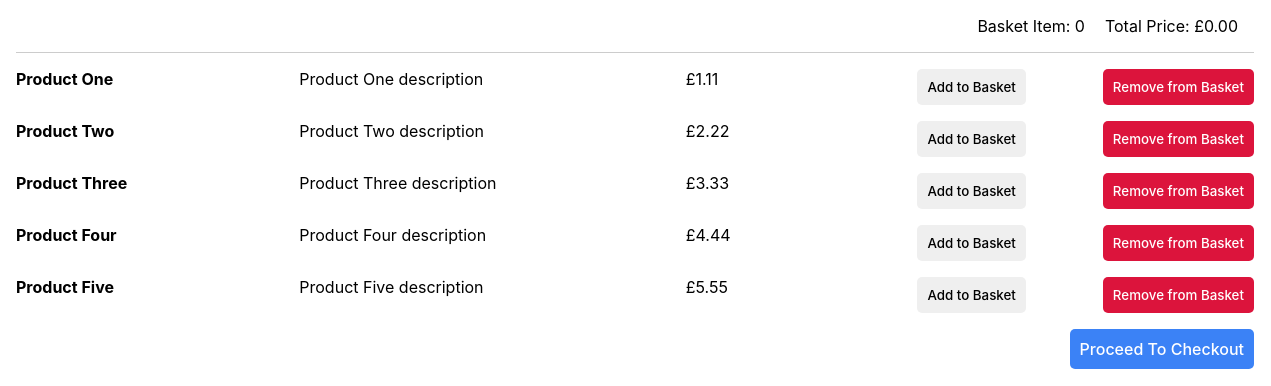
Test: Home Component › should add items to basket with correlated prices
Click the button with test id "addBtn-1": x=972, y=87 [918, 69, 1026, 105]
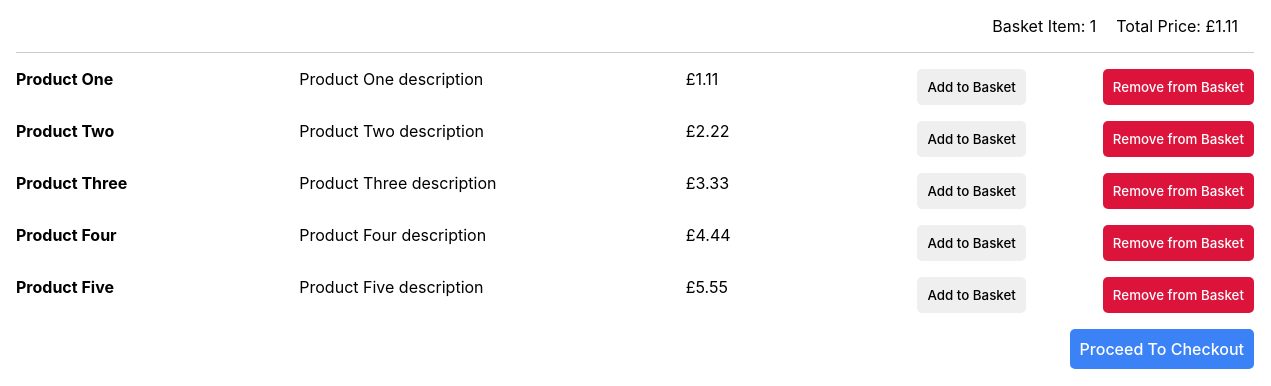
Click the button with test id "addBtn-2": x=972, y=139 [918, 121, 1026, 157]
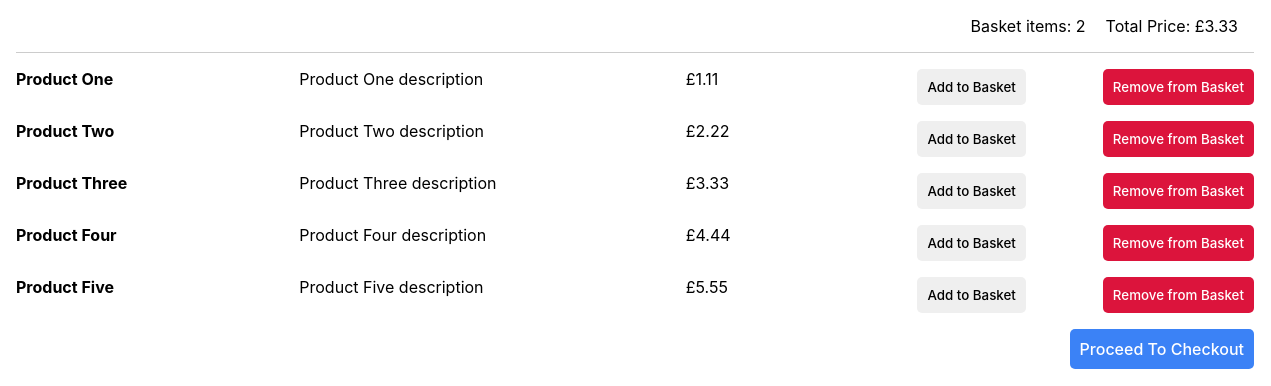
Click the button with test id "addBtn-2": x=972, y=139 [918, 121, 1026, 157]
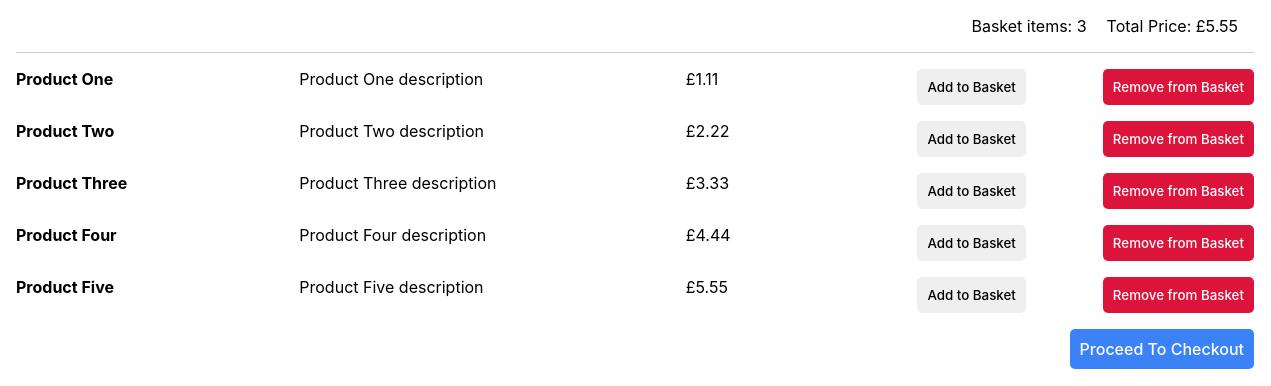
Click the button with test id "addBtn-3": x=972, y=191 [918, 173, 1026, 209]
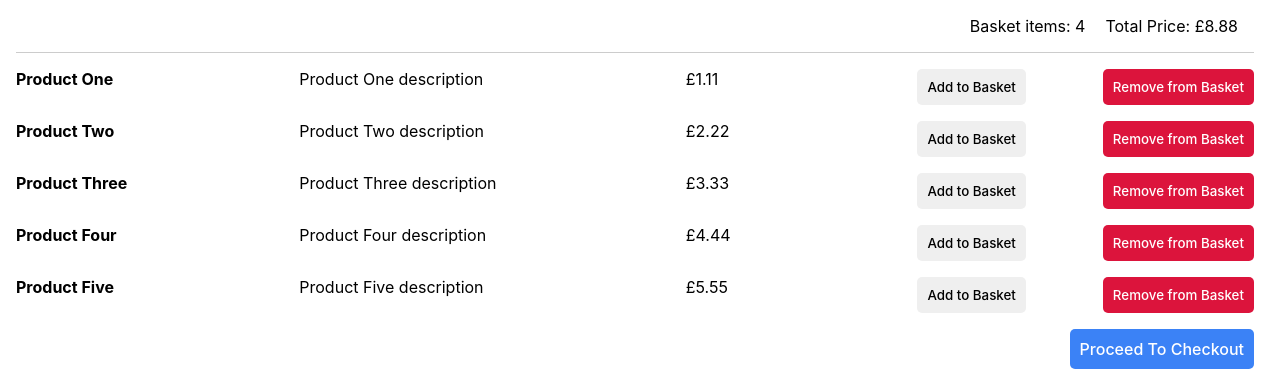
Click the button with test id "addBtn-3": x=972, y=191 [918, 173, 1026, 209]
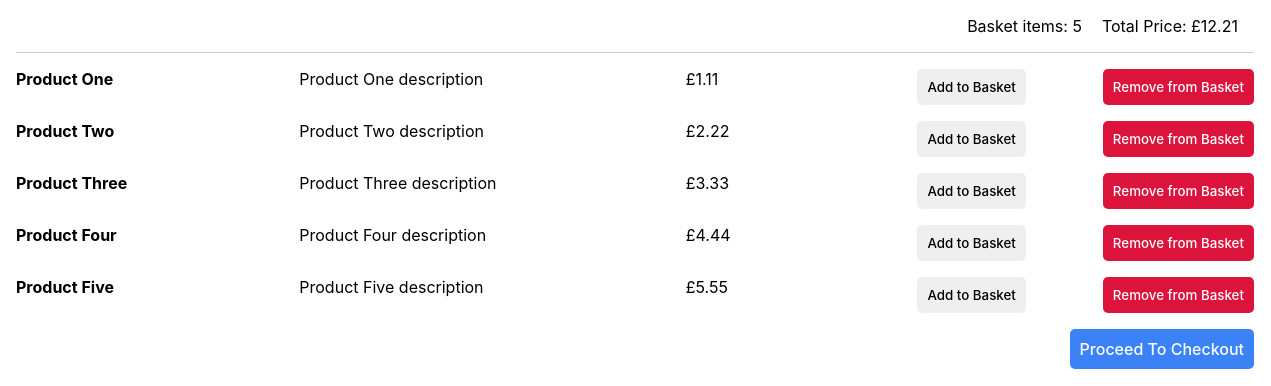
Click the button with test id "addBtn-3": x=972, y=191 [918, 173, 1026, 209]
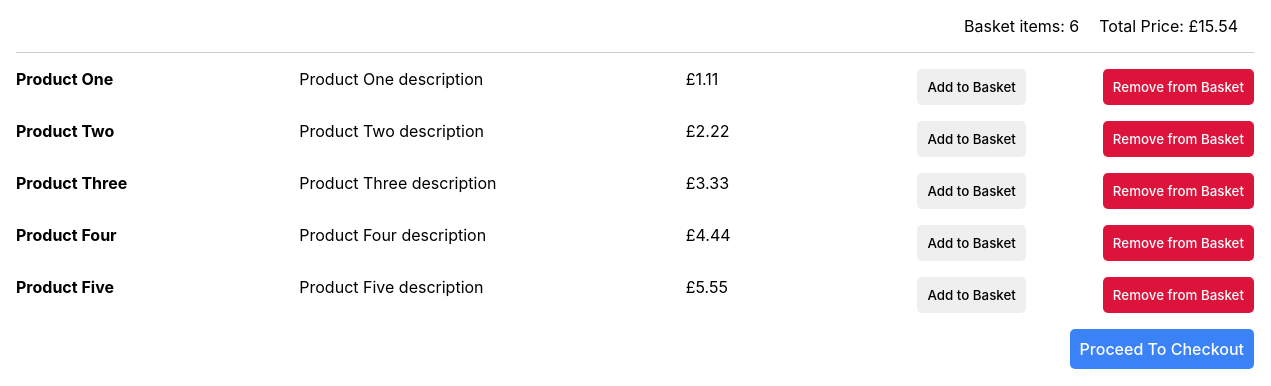
Result: the link "Total Price: £15.54" is shown at [1099, 16, 1238, 36]
